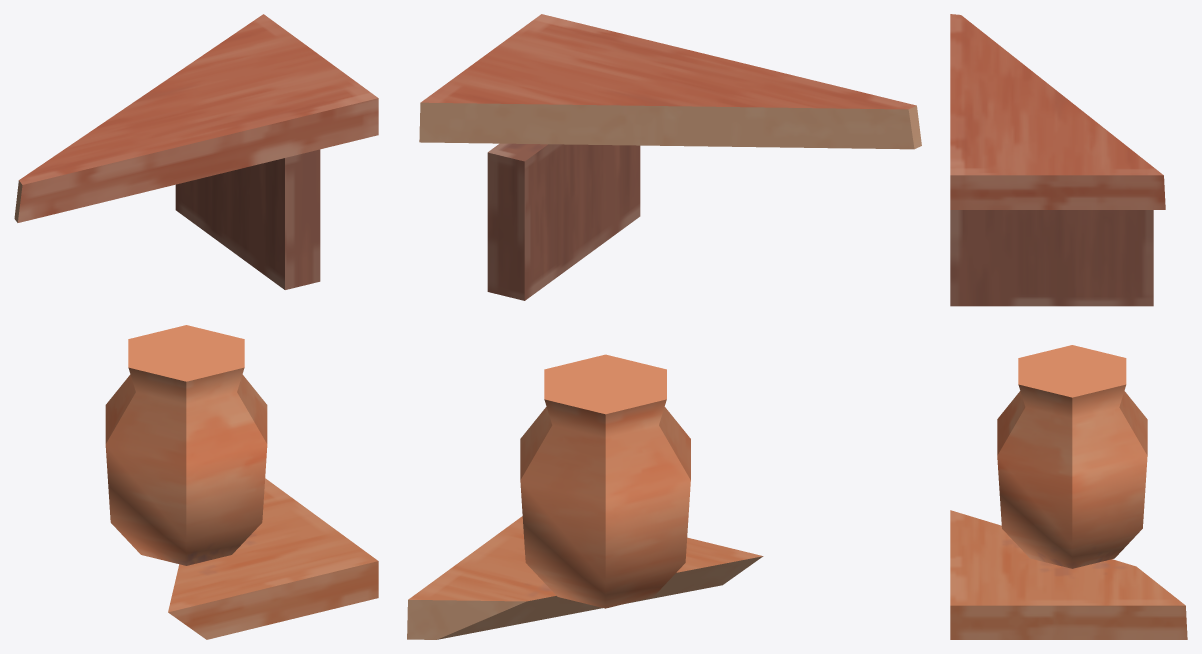
File: shelf_s00.fbx
The picture shows the model from 3 angles, left to right: view 1: azimuth 30°, elevation 25°; view 2: azimuth 150°, elevation 25°; view 3: azimuth 270°, elevation 25°; orthographic projection. The views are drawn at different scales.
Parts seen in each view (by area): view 1: shelf_s00; view 2: shelf_s00; view 3: shelf_s00.
Boxes of the visible parts, <box> form: shelf_s00: <box>14,14,378,639</box>; shelf_s00: <box>407,14,921,639</box>; shelf_s00: <box>950,14,1187,639</box>.
Size of the model in its own units: 1.43 by 1.89 by 0.8749.
